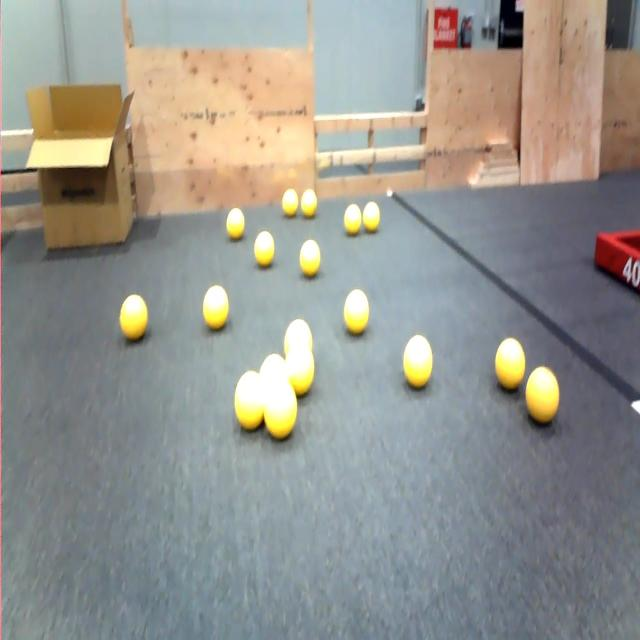fuel: (264, 377, 297, 439), (526, 367, 559, 424), (234, 371, 263, 430), (495, 338, 525, 391), (403, 335, 432, 388), (285, 344, 314, 396), (120, 295, 147, 341), (344, 289, 369, 335), (203, 285, 228, 329), (284, 319, 312, 355), (260, 353, 287, 383), (300, 240, 320, 277), (254, 231, 274, 267), (226, 208, 244, 240), (362, 201, 380, 233), (344, 204, 361, 235), (300, 189, 317, 217), (282, 188, 298, 216)
